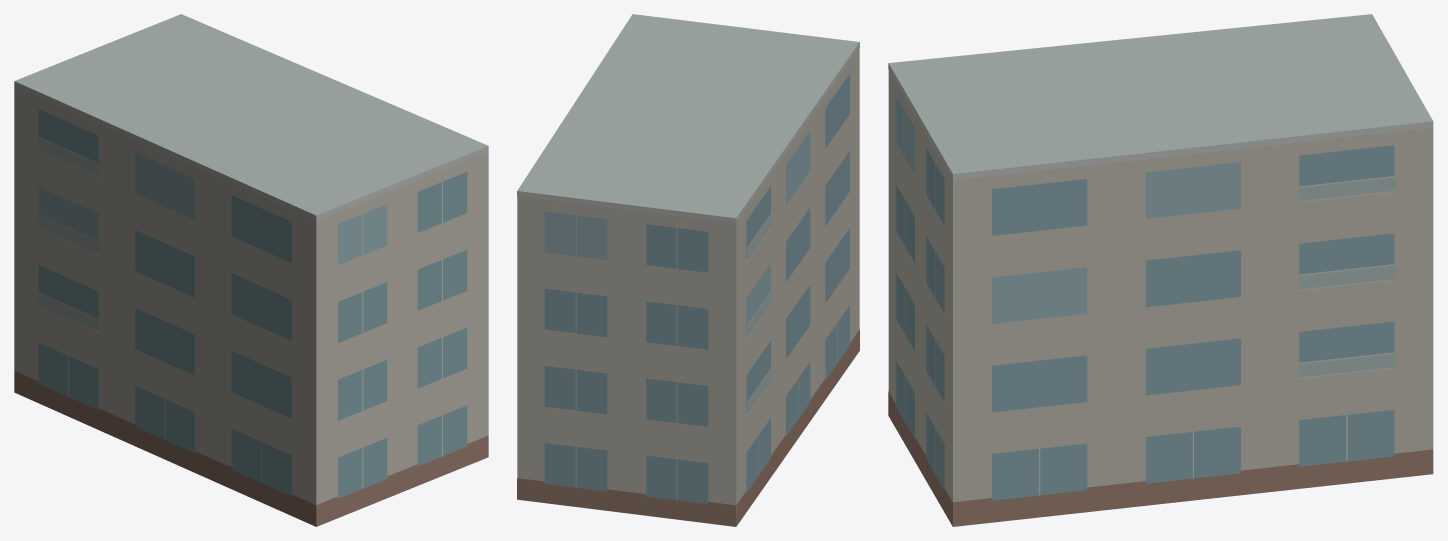
Rendered from survey-upis-32913856.glb.
The picture shows the model from 3 angles, left to right: view 1: azimuth 30°, elevation 25°; view 2: azimuth 150°, elevation 25°; view 3: azimuth 270°, elevation 25°; orthographic projection. The views are drawn at different scales.
Visible parts, largest first — view 1: survey-upis-32913856.tmp; view 2: survey-upis-32913856.tmp; view 3: survey-upis-32913856.tmp.
Part boxes in pixels (x1=…): survey-upis-32913856.tmp: x1=14, y1=14, x2=488, y2=526; survey-upis-32913856.tmp: x1=517, y1=14, x2=859, y2=526; survey-upis-32913856.tmp: x1=888, y1=14, x2=1433, y2=526.
Size of the model in its own units: 13.1 by 13.45 by 18.83.
